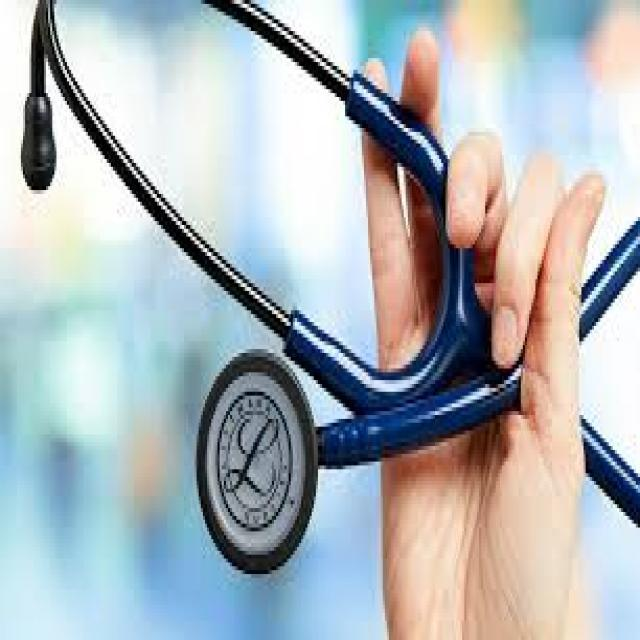stethoscope: (30, 34, 530, 589)
